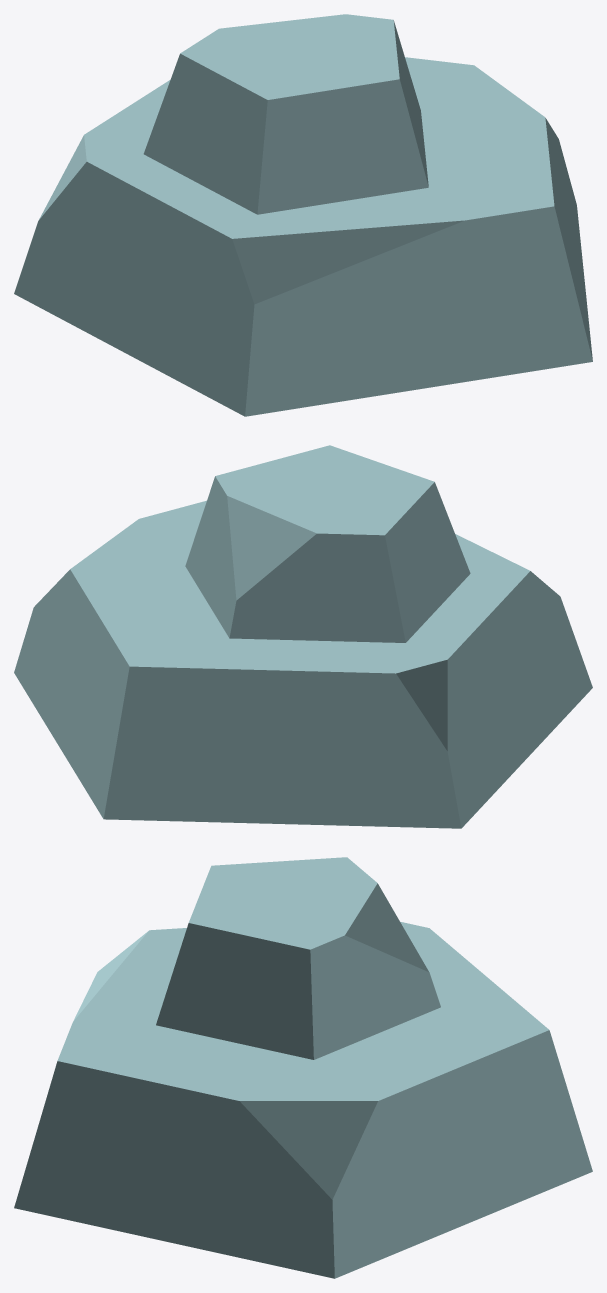
Rendered from stone_smallTop1.obj.
3 views of the same model, one above another, from view 1: azimuth 30°, elevation 25°; view 2: azimuth 150°, elevation 25°; view 3: azimuth 270°, elevation 25° (orthographic). The views are drawn at different scales.
Visible parts, largest first — view 1: stone_smallTop1; view 2: stone_smallTop1; view 3: stone_smallTop1.
Boxes of the visible parts, left/top/right/bottom form: stone_smallTop1: left=14, top=14, right=592, bottom=416; stone_smallTop1: left=14, top=445, right=592, bottom=828; stone_smallTop1: left=14, top=857, right=592, bottom=1278.
Bounding box in the file's own units: 4.88 × 2.2 × 4.89.
